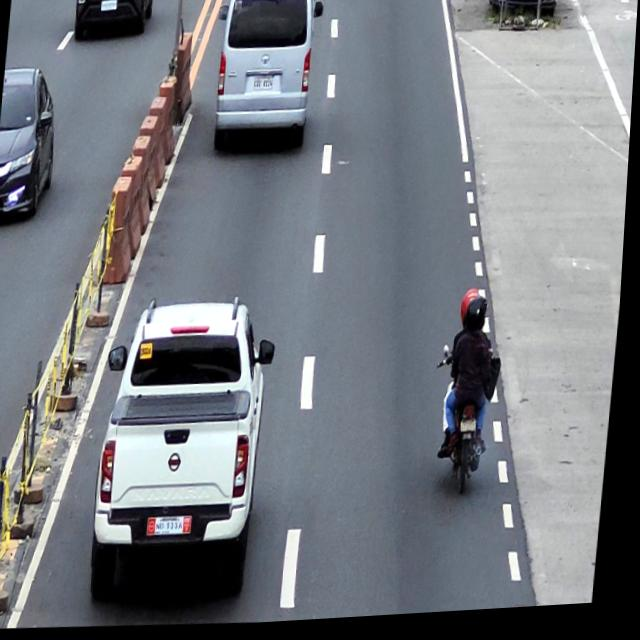Car: (91, 292, 284, 611), (207, 0, 326, 161), (0, 64, 64, 227), (72, 0, 155, 41)
License-Plate: (160, 516, 191, 539), (253, 79, 275, 94), (465, 423, 482, 438), (100, 0, 117, 12)
Motorcycle: (437, 342, 497, 504)
